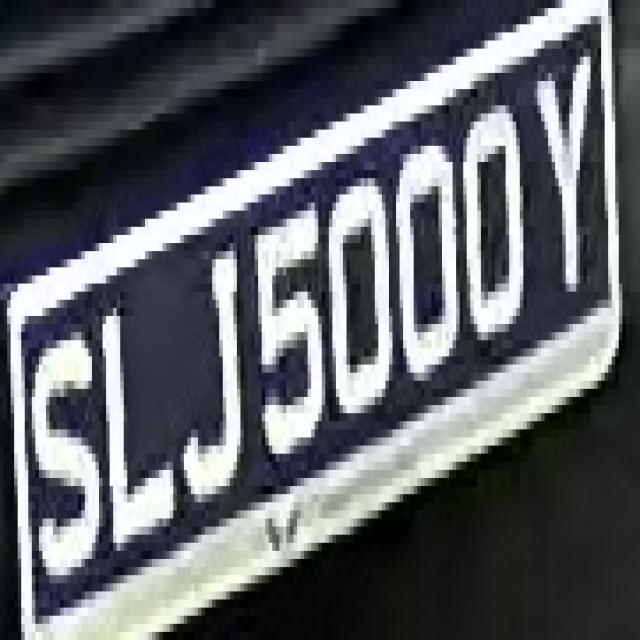0: (385, 105, 467, 397), (445, 89, 534, 357), (322, 162, 399, 429)
5: (251, 186, 329, 462)
J: (166, 235, 244, 518)
L: (99, 284, 180, 575)
S: (18, 292, 99, 608)
Y: (538, 57, 604, 308)
